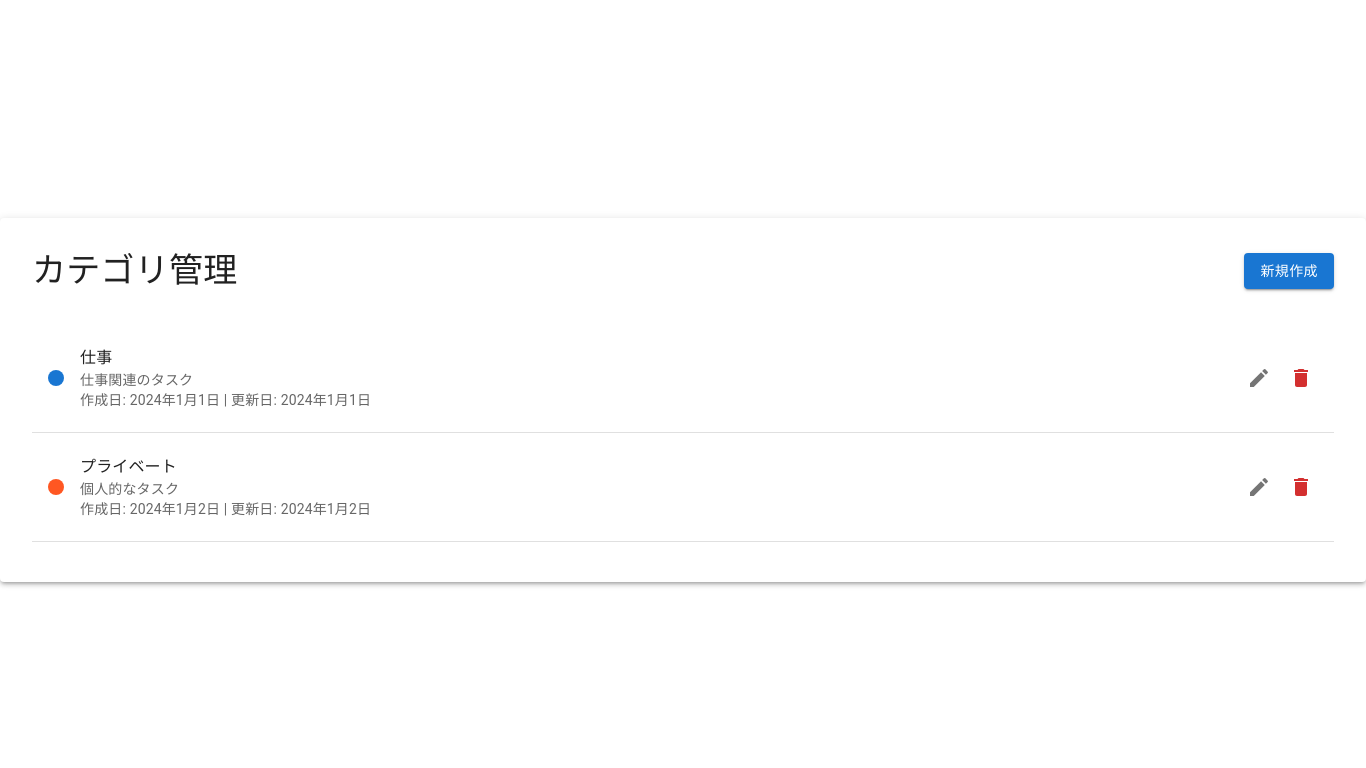
Test case: CategoriesPage › shows error snackbar when deletion is blocked
Click the button named "削除" in the row of "仕事関連のタスク" at {"x": 1301, "y": 378}, box x1=1284 y1=361 x2=1318 y2=395
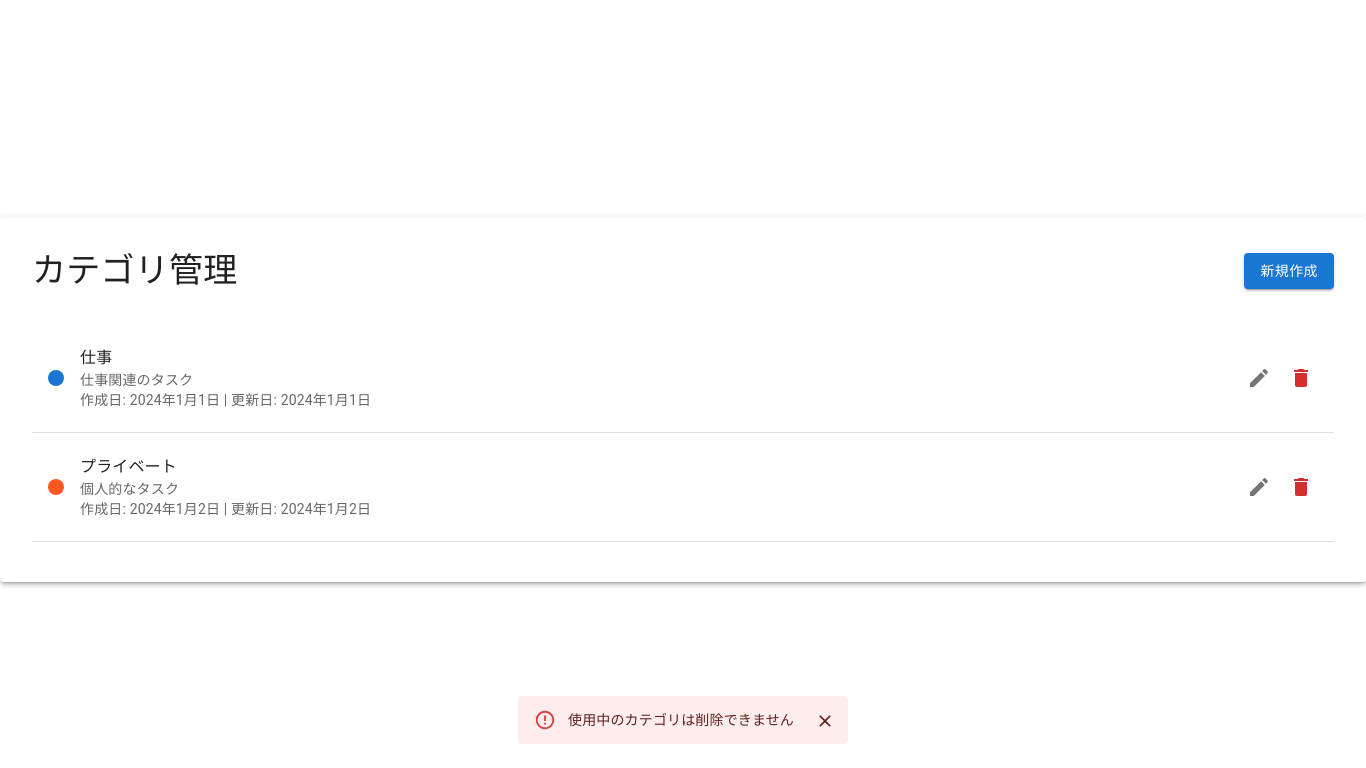
Check: the text "使用中のカテゴリは削除できません" is shown, box x1=568 y1=712 x2=794 y2=728
